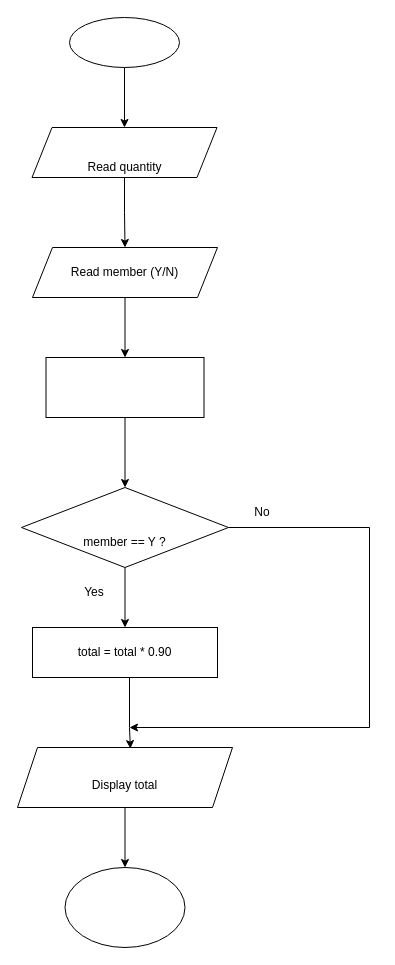
The diagram is 395 pixels wide and 965 high, and some of its shapes have lost their labels. The shapes that lost their labels are listed below. From the top down, each one's centre as x and y in pixels, then its label:
[124,42]: START
[124,387]: total = quantity * 4.50
[124,907]: STOP
